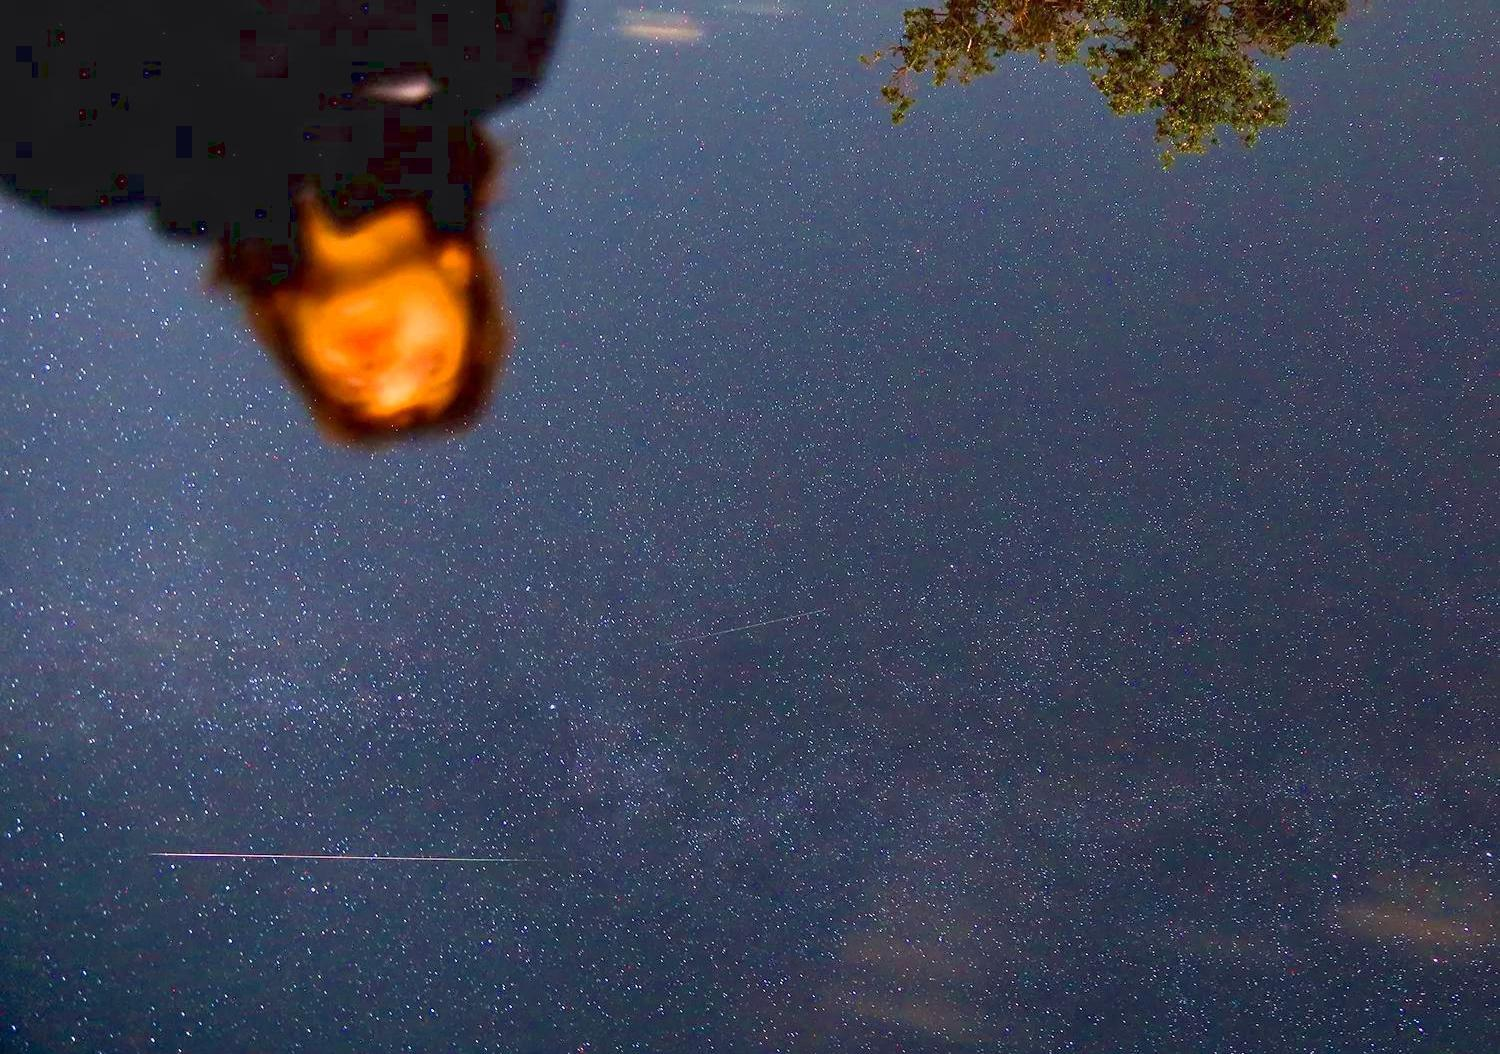meteorite: (117, 834, 556, 884), (639, 603, 862, 655)
